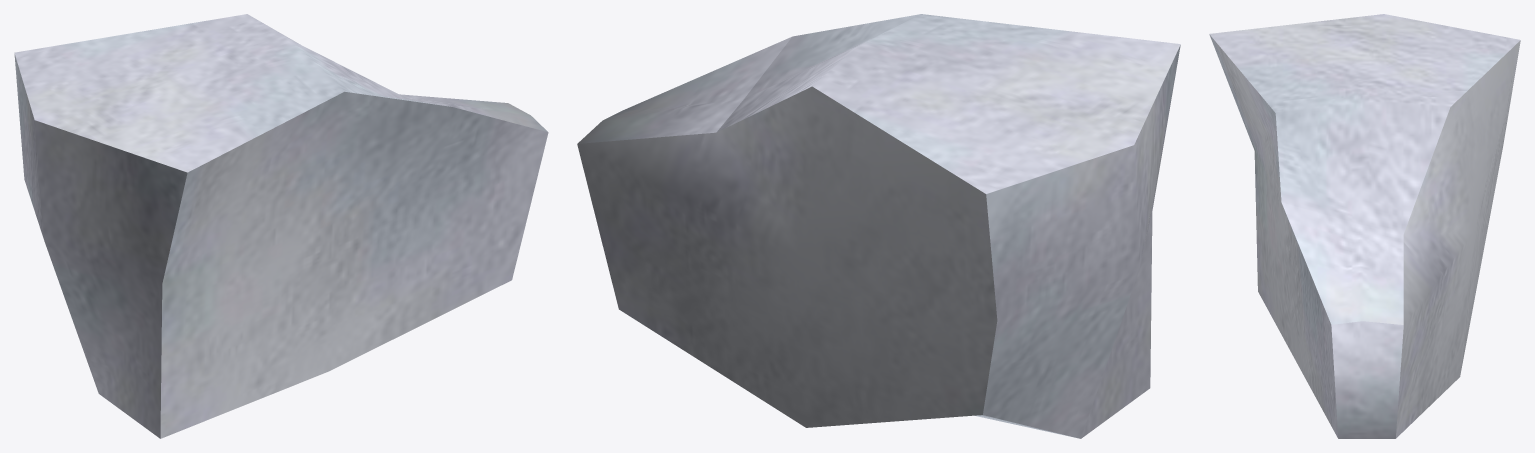
File: snow_ball_2.obj
3 renders of one model, left to right at view 1: azimuth 30°, elevation 25°; view 2: azimuth 150°, elevation 25°; view 3: azimuth 270°, elevation 25°, orthographic. The views are drawn at different scales.
Visible parts, largest first — view 1: pCube11; view 2: pCube11; view 3: pCube11.
Part boxes in pixels (x1=…): pCube11: x1=14, y1=14, x2=548, y2=438; pCube11: x1=577, y1=14, x2=1180, y2=438; pCube11: x1=1209, y1=14, x2=1520, y2=438.
Bounding box in the file's own units: 4.3 × 2.6 × 2.66.
